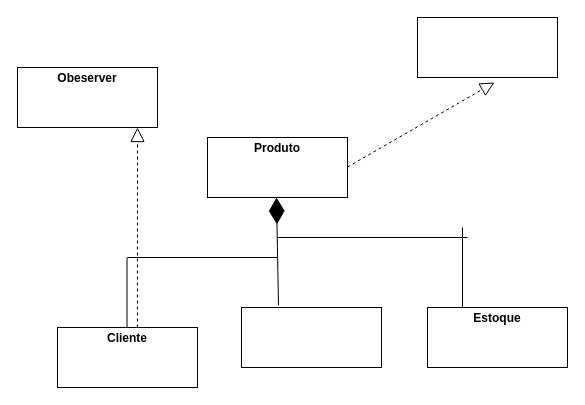
Some shapes in this 585 by 405 pixel diagram are drawn without their labels. Each missing label, with the box of its shape:
Gerente: (240, 306, 382, 368)
Subject: (416, 16, 558, 78)
